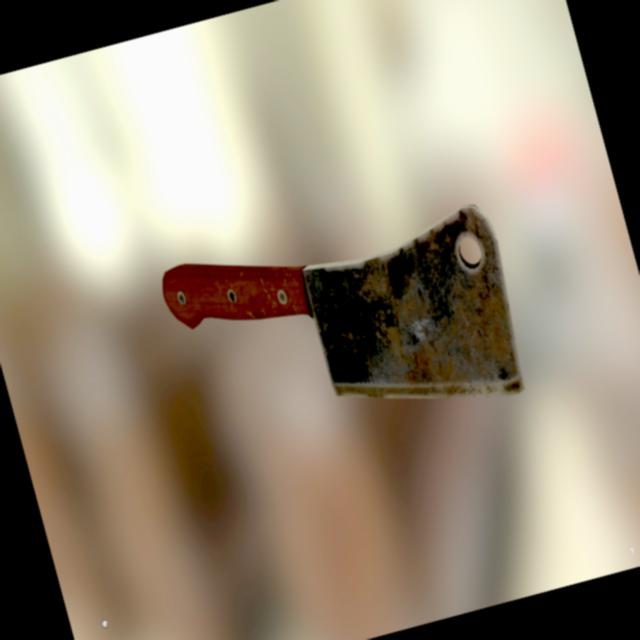cleaver: (158, 182, 530, 479)
